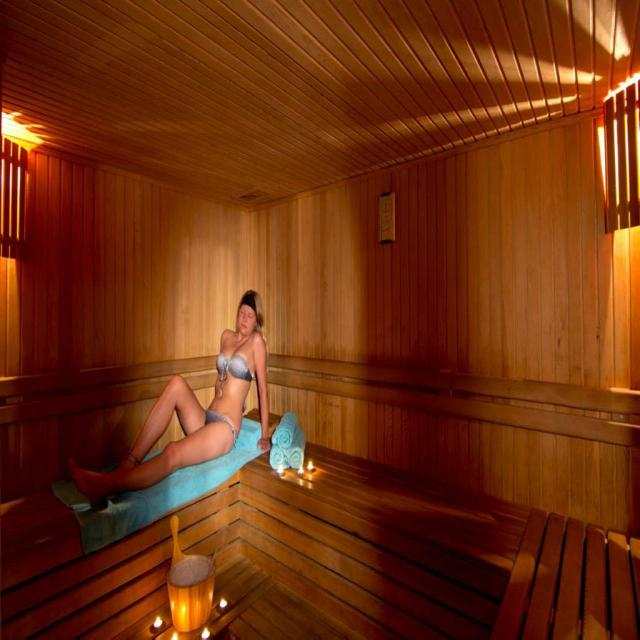nomask: (238, 301, 254, 335)
